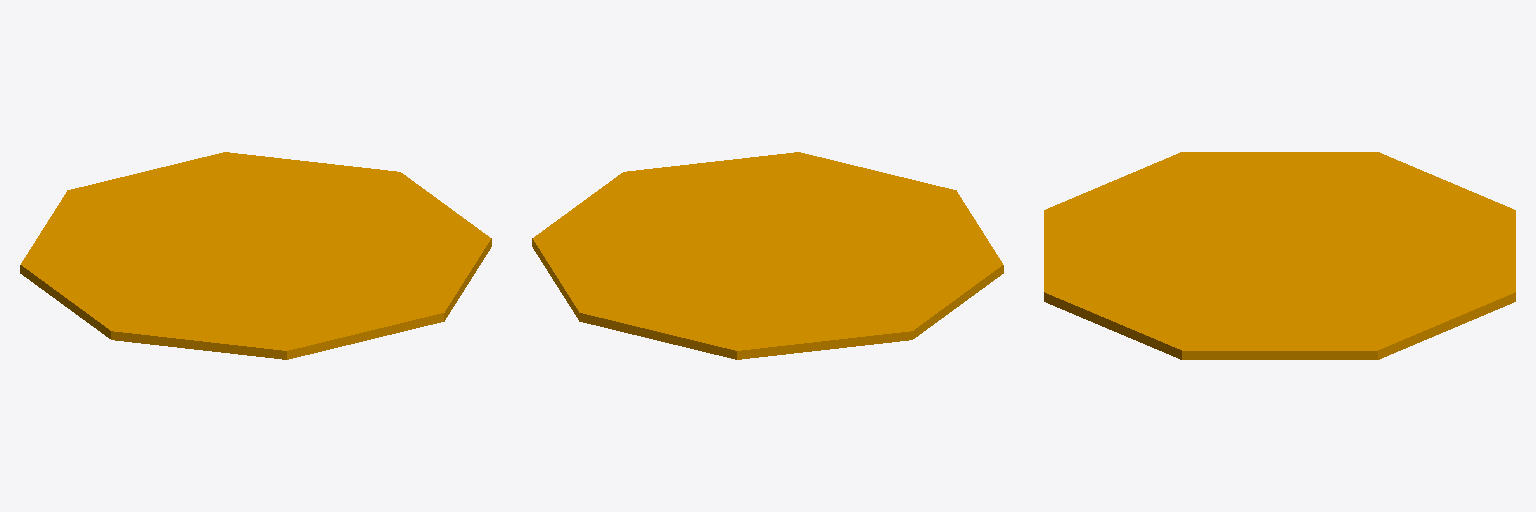
The robot description file, URDF, robot "target_box":
<?xml version="1.0" encoding="utf-8"?>
<!-- =================================================================================== -->
<!-- |    This document was autogenerated by xacro from cube.urdf.xacro               | -->
<!-- |    EDITING THIS FILE BY HAND IS NOT RECOMMENDED                                 | -->
<!-- =================================================================================== -->
<robot name="target_box">
  <link name="target_link">
    <visual>
      <origin rpy="0 0 0" xyz="0 0 0" />
      <geometry>
        <mesh filename="package://grf_transport/models/polygonal_prism/polygonal_prism.stl" scale="1.0 1.0 0.05" />
      </geometry>
    </visual>
    <inertial>
      <origin xyz="0 0 0" rpy="0 0 0" />
      <mass value="0.3" />
      <inertia ixx="0.001700" ixy="0.0" ixz="0.0" iyy="0.001700" iyz="0.0" izz="0.001700" />
    </inertial>
  </link>
  
  <gazebo reference="target_link">
    <static>true</static>
    <gravity>false</gravity>
    <!-- <selfCollide>true</selfCollide> -->
    <material>Gazebo/GreenTransparent</material>
  </gazebo>
</robot>

--- Facts derived from the render (not from the file) ---
The picture shows the robot from 3 angles, left to right: view 1: azimuth 30°, elevation 25°; view 2: azimuth 150°, elevation 25°; view 3: azimuth 270°, elevation 25°; orthographic projection.
Robot: target_box — 1 links, 0 joints (none); root link target_link; default pose: all joints at 0.
Links seen in each view (by area): view 1: target_link; view 2: target_link; view 3: target_link.
Link boxes in pixels (left/top/right/bottom): target_link: left=20, top=152, right=491, bottom=359; target_link: left=532, top=152, right=1003, bottom=359; target_link: left=1044, top=152, right=1515, bottom=359.
Size in the robot's own frame: 0.6 by 0.6 by 0.0135 metres.
Meshes: 1 distinct files referenced, 1 mesh visuals loaded (1 binary STL).